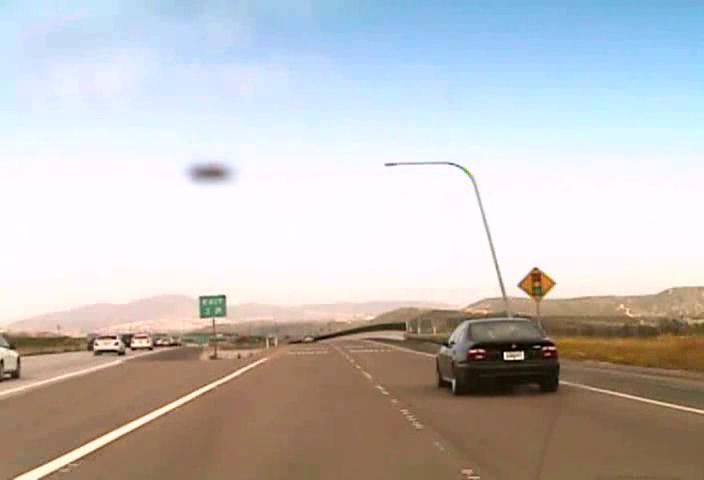signalAhead: (515, 266, 556, 303)
